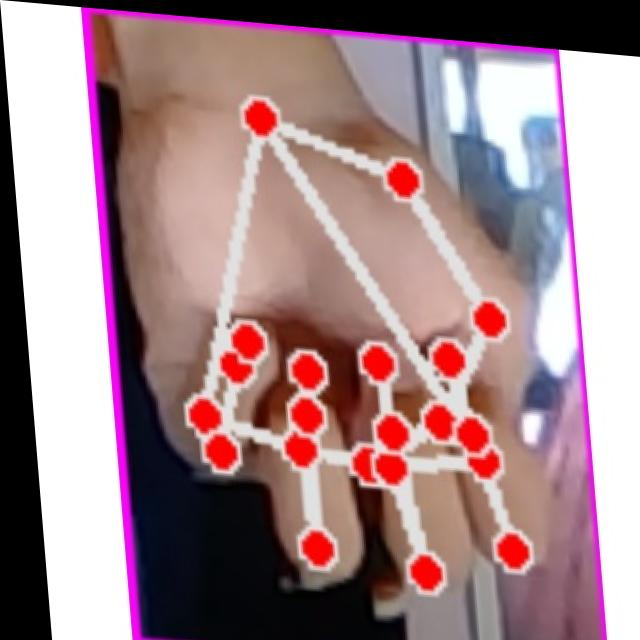M: (123, 59, 556, 609)
